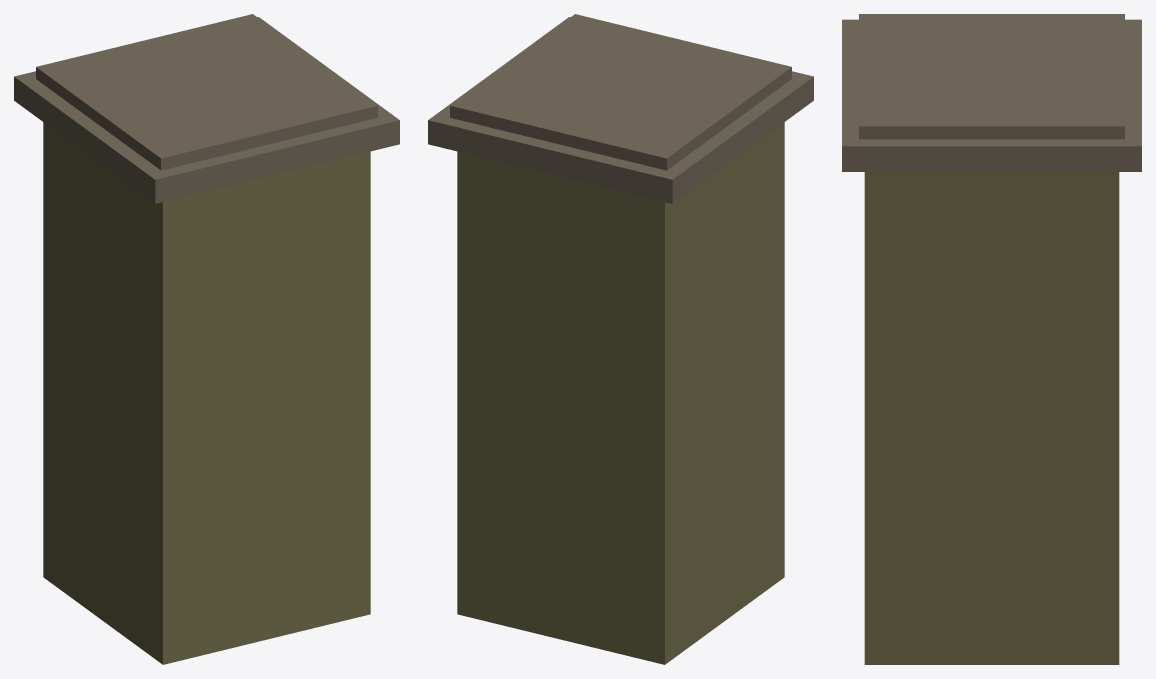
The model's file is garden_wall_pier.glb.
3 renders of one model, left to right at view 1: azimuth 30°, elevation 25°; view 2: azimuth 150°, elevation 25°; view 3: azimuth 270°, elevation 25°, orthographic. The views are drawn at different scales.
Visible parts, largest first — view 1: Pier; view 2: Pier; view 3: Pier.
Boxes of the visible parts, x1,y1,x2,y2 form: Pier: (14, 14, 399, 664); Pier: (428, 14, 813, 664); Pier: (842, 14, 1141, 664).
Size of the model in its own units: 0.53 by 1.06 by 0.53.
